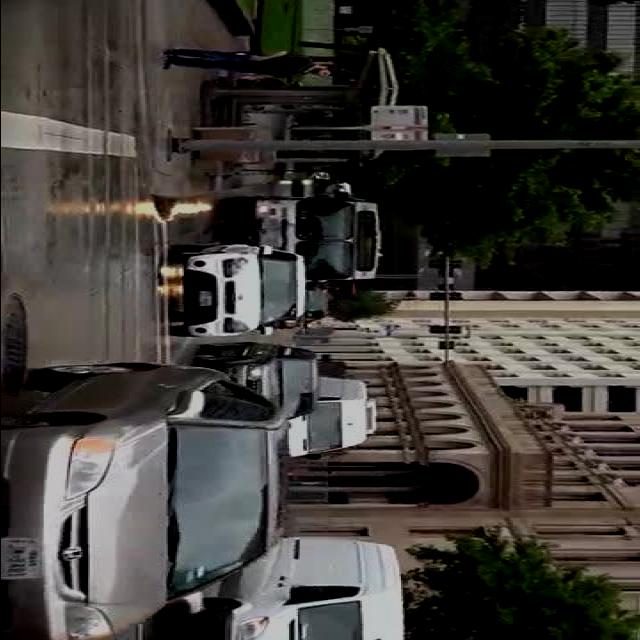bus: (228, 192, 382, 292)
